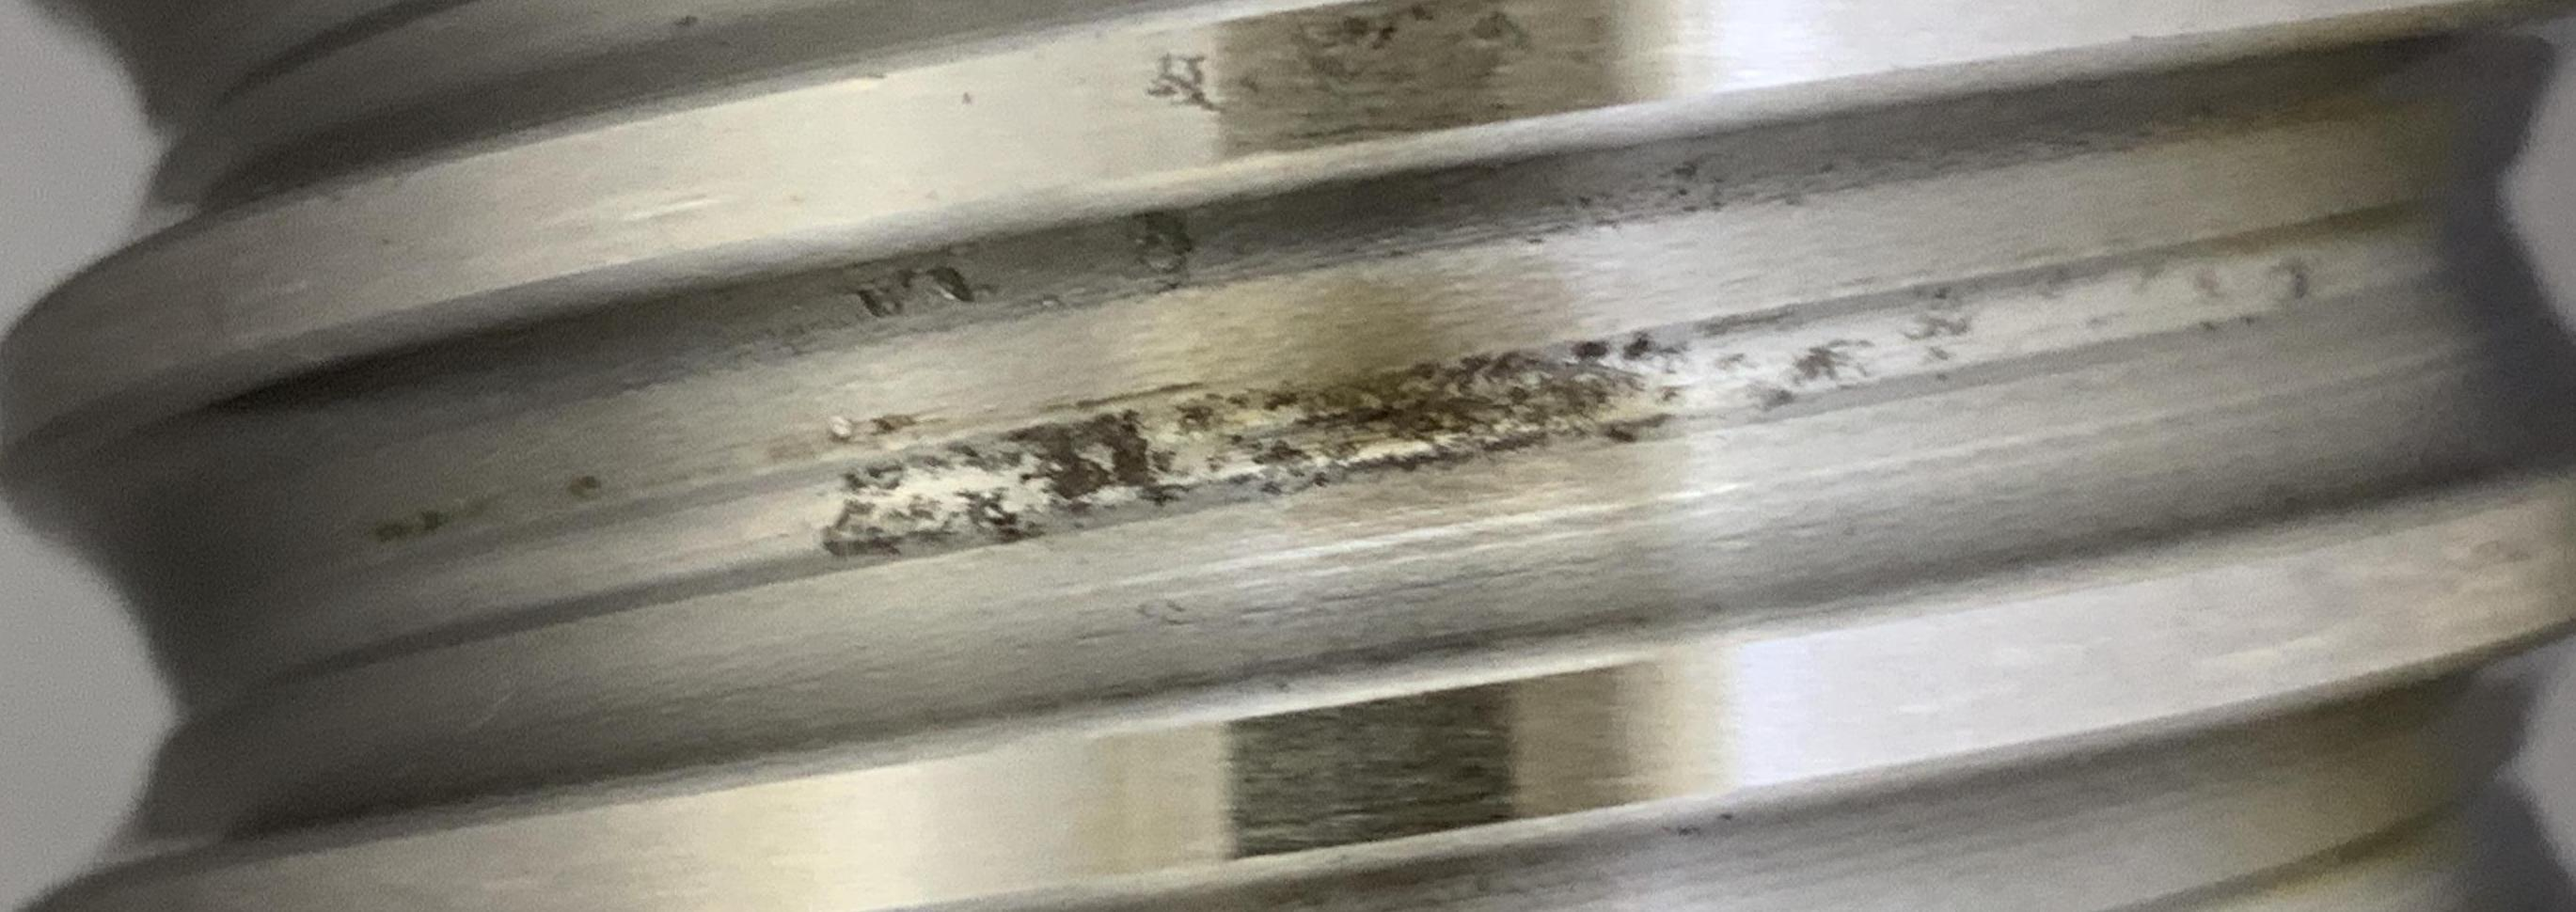pitting: (1132, 212, 1191, 276), (925, 263, 974, 302), (854, 289, 899, 317), (892, 269, 917, 288)
